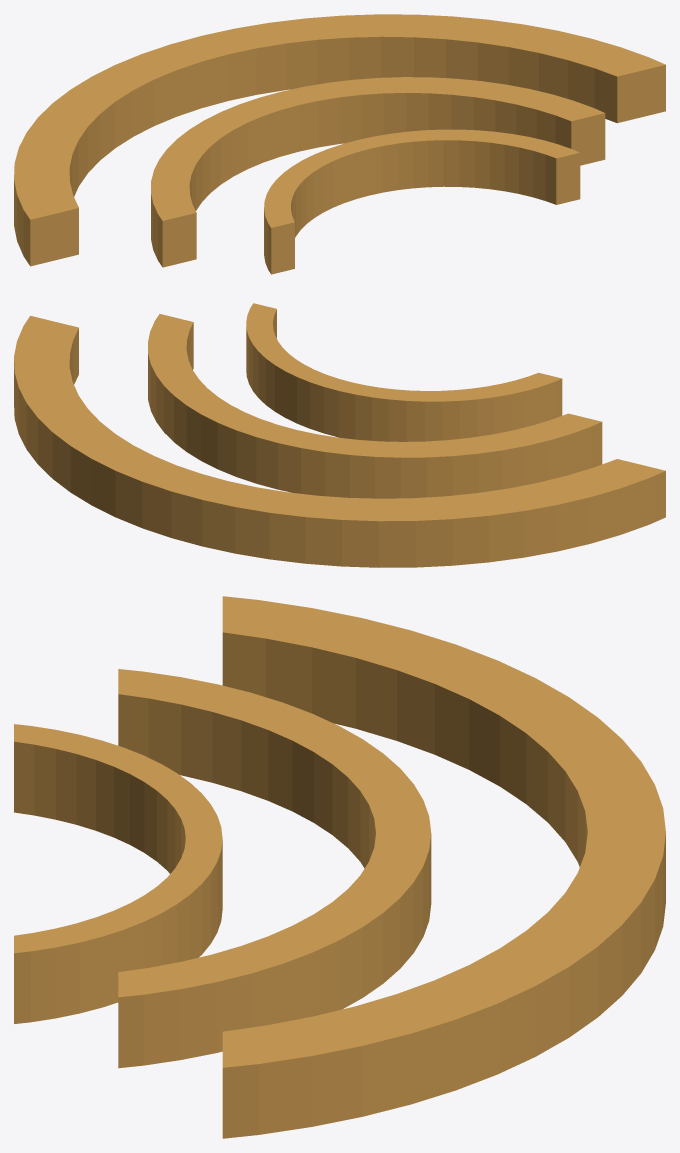
File: Cok.glb
The picture shows the model from 3 angles, top to bottom: view 1: azimuth 30°, elevation 25°; view 2: azimuth 150°, elevation 25°; view 3: azimuth 270°, elevation 25°; orthographic projection. The views are drawn at different scales.
Parts seen in each view (by area): view 1: Mesh_Mesh_head_geo.001_lambert2SG.001; view 2: Mesh_Mesh_head_geo.001_lambert2SG.001; view 3: Mesh_Mesh_head_geo.001_lambert2SG.001.
Boxes of the visible parts, <box> form: Mesh_Mesh_head_geo.001_lambert2SG.001: <box>14,14,665,274</box>; Mesh_Mesh_head_geo.001_lambert2SG.001: <box>14,303,665,567</box>; Mesh_Mesh_head_geo.001_lambert2SG.001: <box>14,596,665,1138</box>.
Bounding box in the file's own units: 42.8 × 3 × 25.
